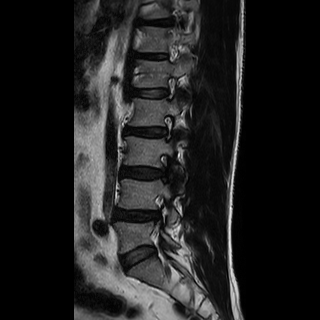RFS0: (157, 108, 177, 147), (160, 71, 180, 106)
